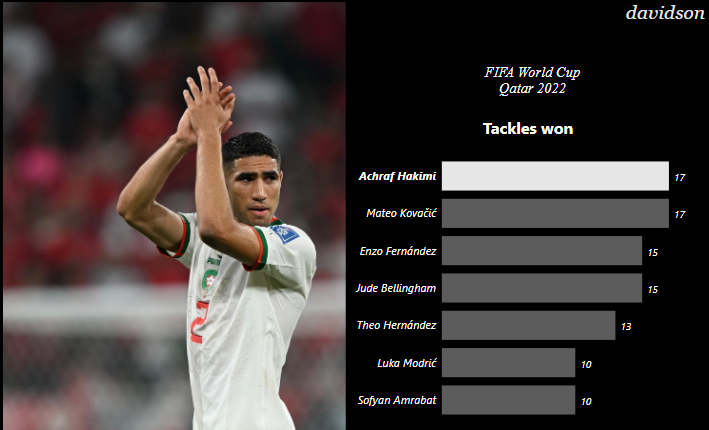

This screenshot's page, from the dashboard's own definition file:
{"tool":"powerbi","page":{"name":"Page 1","canvas":[960,720],"ordinal":0},"visuals":[{"type":"barChart","title":"Tackles won","fields":{"Category":["player_defense.player"],"Y":["Sum(player_defense.tackles_won)"]},"box":[113.8,218.9,610.6,351.4],"z":0}]}

Visuals, with their boxes on the page's 960x720 design canvas (x1, y1, x2, y2). These are canvas units, not pixel positions in the 709x430 screenshot, which may show the page scaled, cropped or inside an application window:
"Tackles won" barChart: 114,219,724,570
